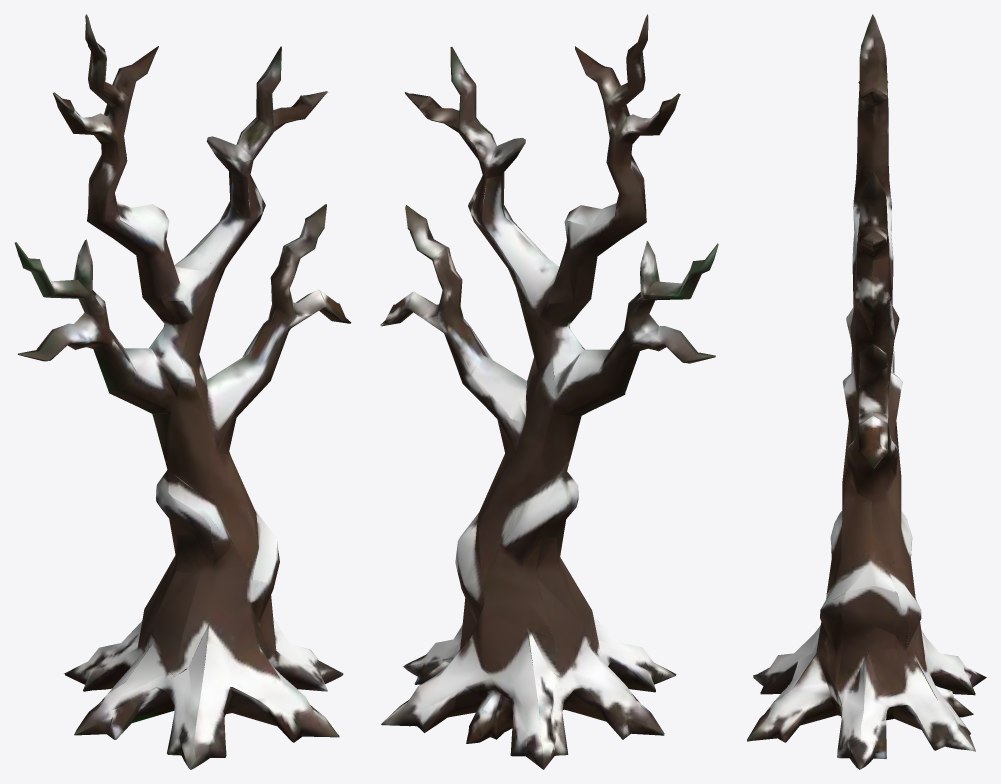
File: tree_gen_d.glb
3 views of the same model, side by side, from view 1: azimuth 30°, elevation 25°; view 2: azimuth 150°, elevation 25°; view 3: azimuth 270°, elevation 25° (orthographic). The views are drawn at different scales.
Visible parts, largest first — view 1: tree_gen.003; view 2: tree_gen.003; view 3: tree_gen.003.
Boxes of the visible parts, <box> form: tree_gen.003: <box>14,14,351,769</box>; tree_gen.003: <box>380,14,718,769</box>; tree_gen.003: <box>747,14,986,769</box>.
Size of the model in its own units: 4.42 by 9 by 3.03.
Materials: 1 (1 with a texture image).
